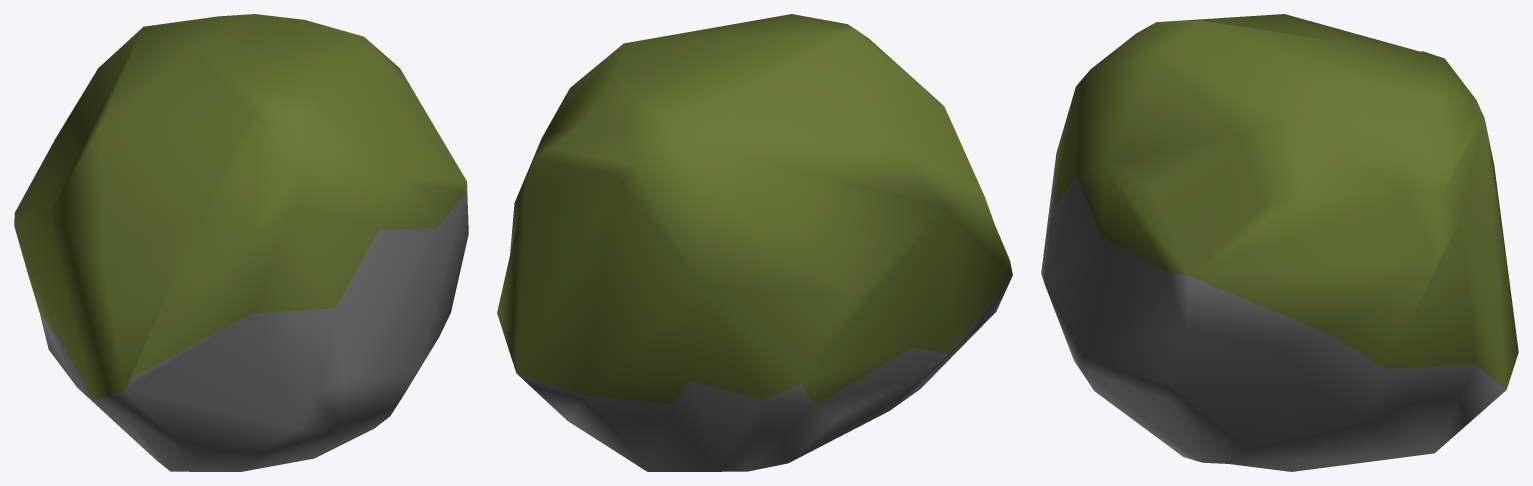
File: Rock_1_mossy_2.glb
3 renders of one model, left to right at view 1: azimuth 30°, elevation 25°; view 2: azimuth 150°, elevation 25°; view 3: azimuth 270°, elevation 25°, orthographic. The views are drawn at different scales.
Visible parts, largest first — view 1: Rock_1_mossy_2; view 2: Rock_1_mossy_2; view 3: Rock_1_mossy_2.
Boxes of the visible parts, left/top/right/bottom form: Rock_1_mossy_2: left=14, top=14, right=468, bottom=471; Rock_1_mossy_2: left=497, top=14, right=1012, bottom=471; Rock_1_mossy_2: left=1041, top=14, right=1518, bottom=471.
Size of the model in its own units: 0.3479 by 0.3223 by 0.3458.
1 material, 1 textured.
